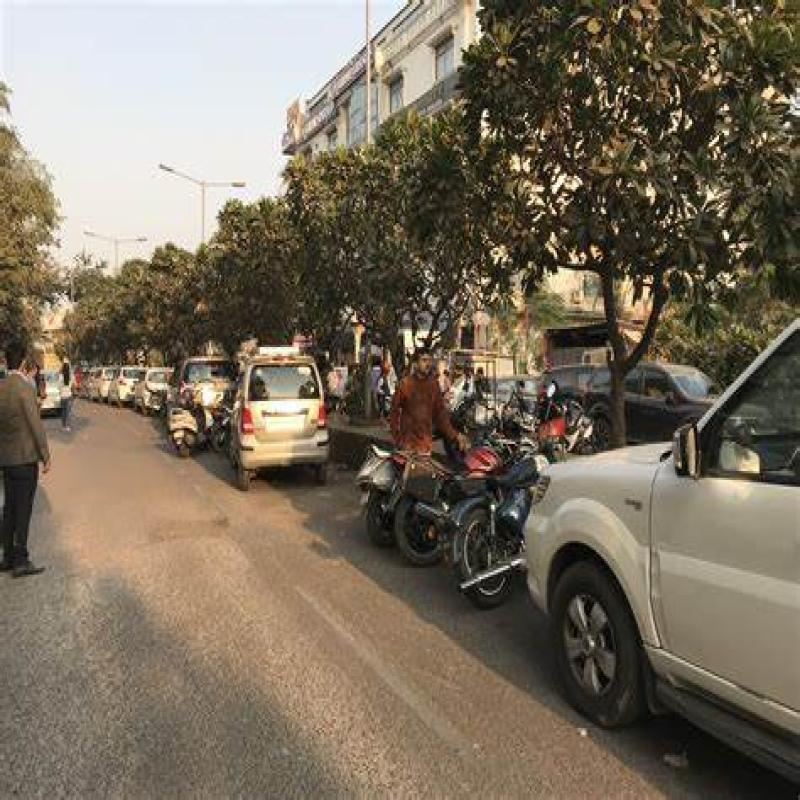car: (499, 281, 800, 800), (233, 340, 333, 484)
